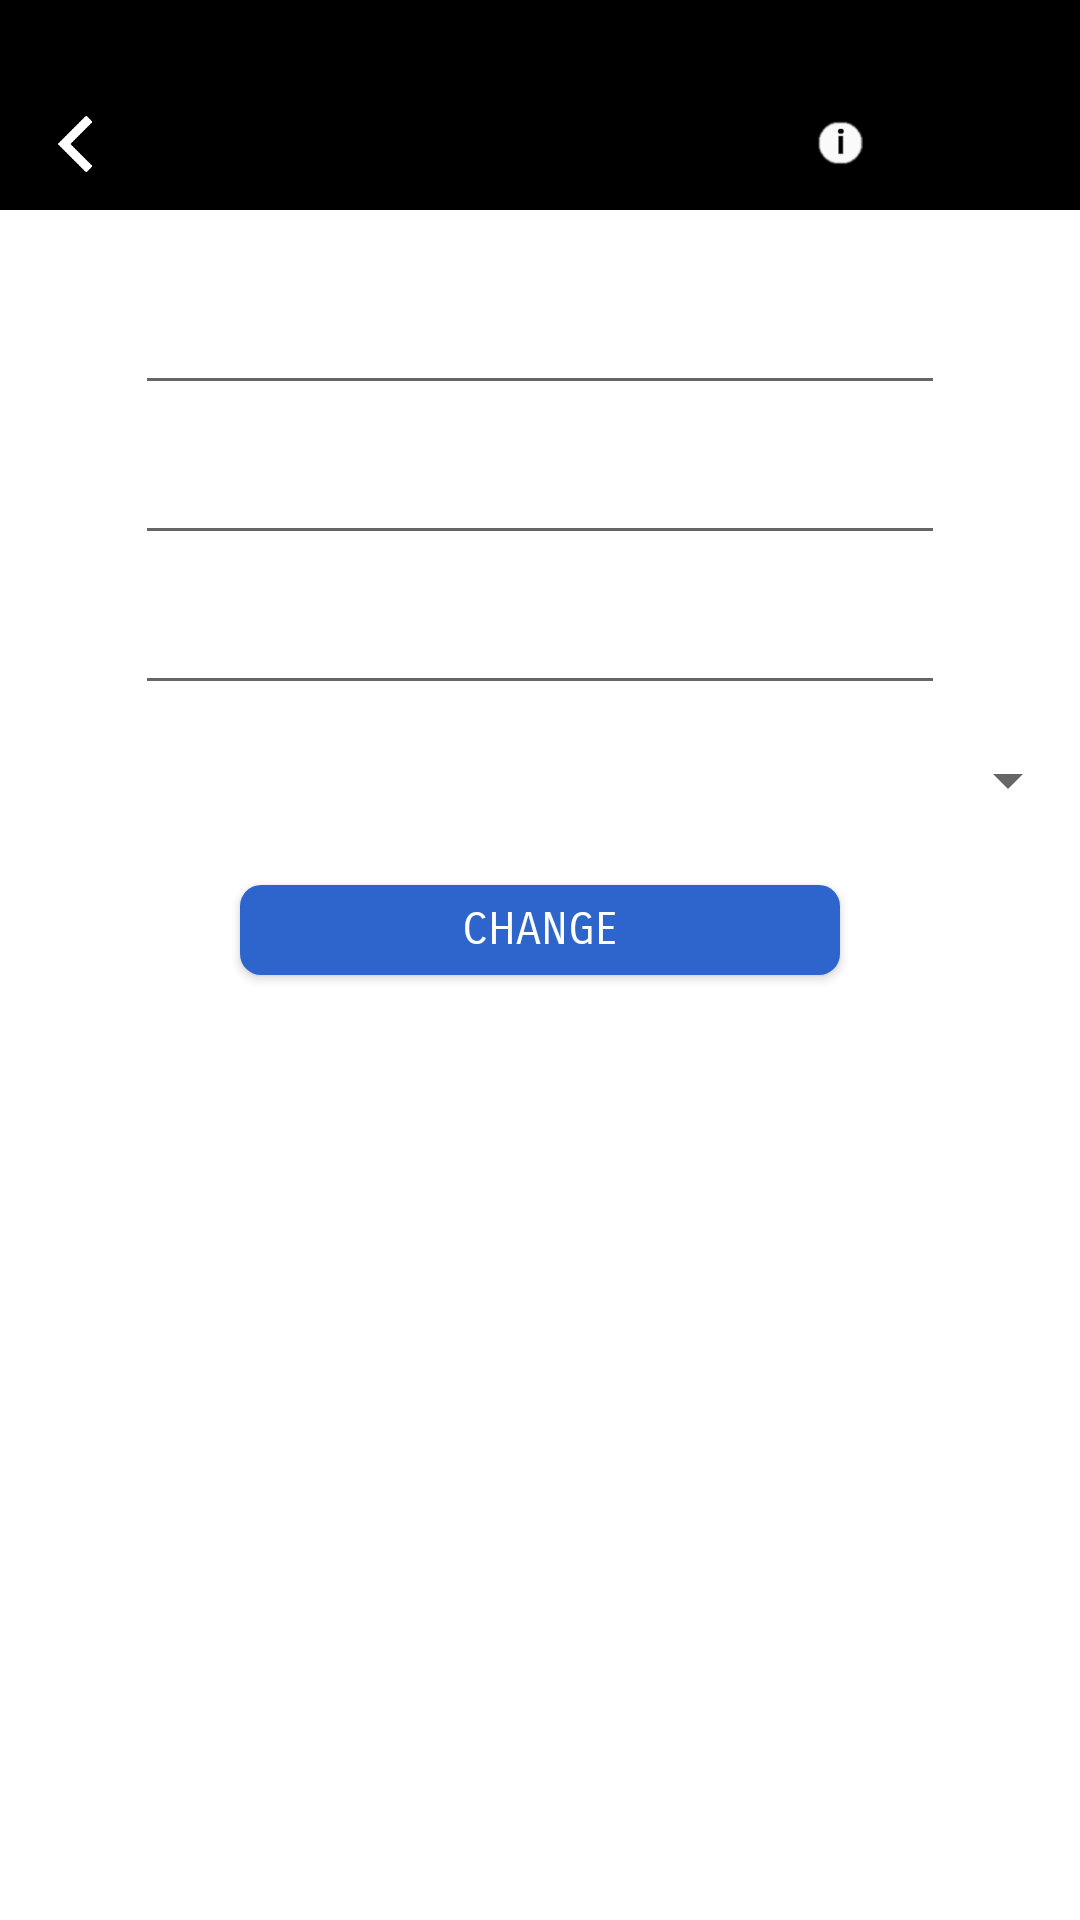

Icon bounding boxes for this 1080*1920 phone screenshot, format Rect(x1, y1, x2, y2):
bac: Rect(58, 116, 92, 172)
informacao: Rect(818, 122, 863, 164)
